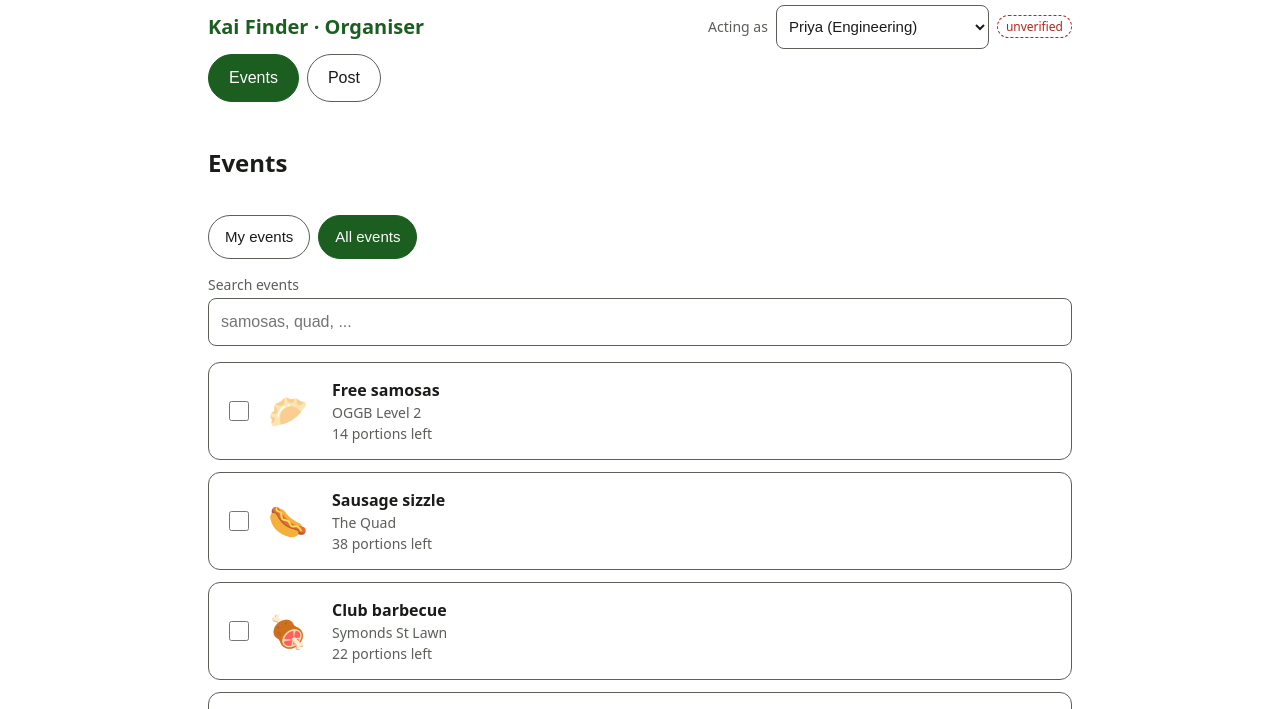
Test case: who posted it › says out loud who it is about to post as
Click the button "Post" at (344, 78), box [307,54,381,102]
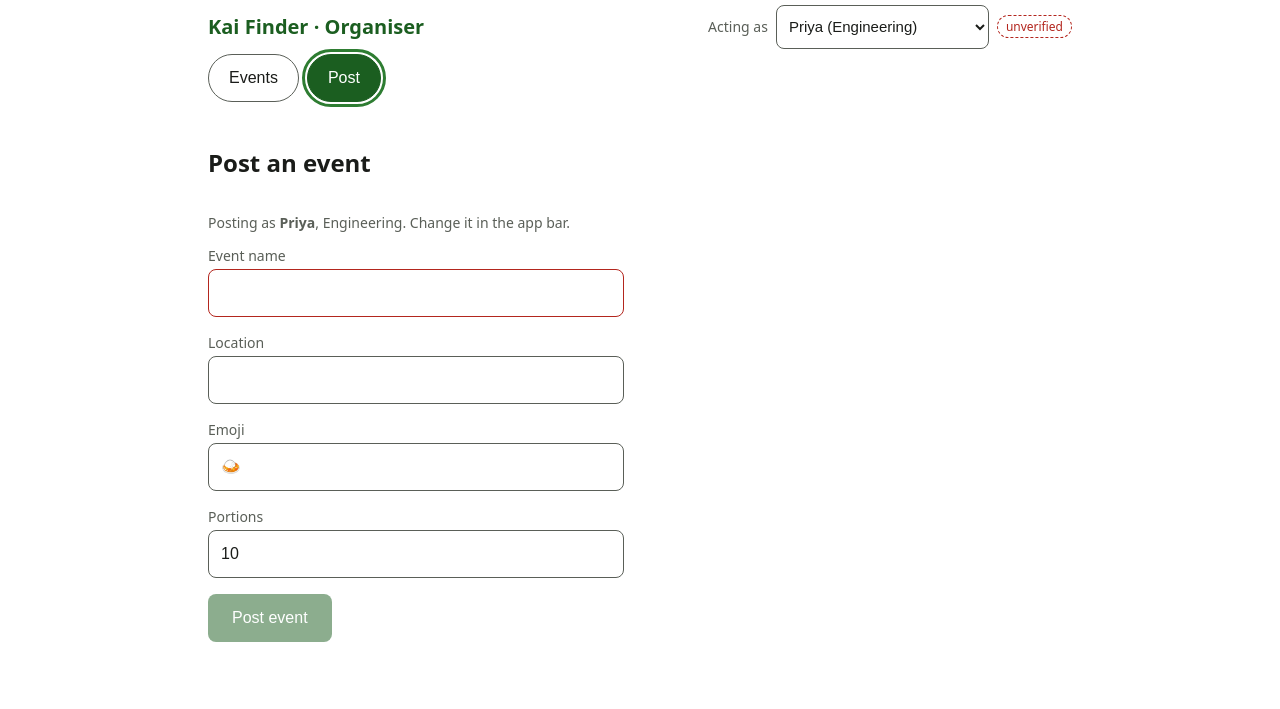
Select "Josh (Business School)" in the dropdown labelled "Acting as" at (882, 27), box [776,5,989,49]
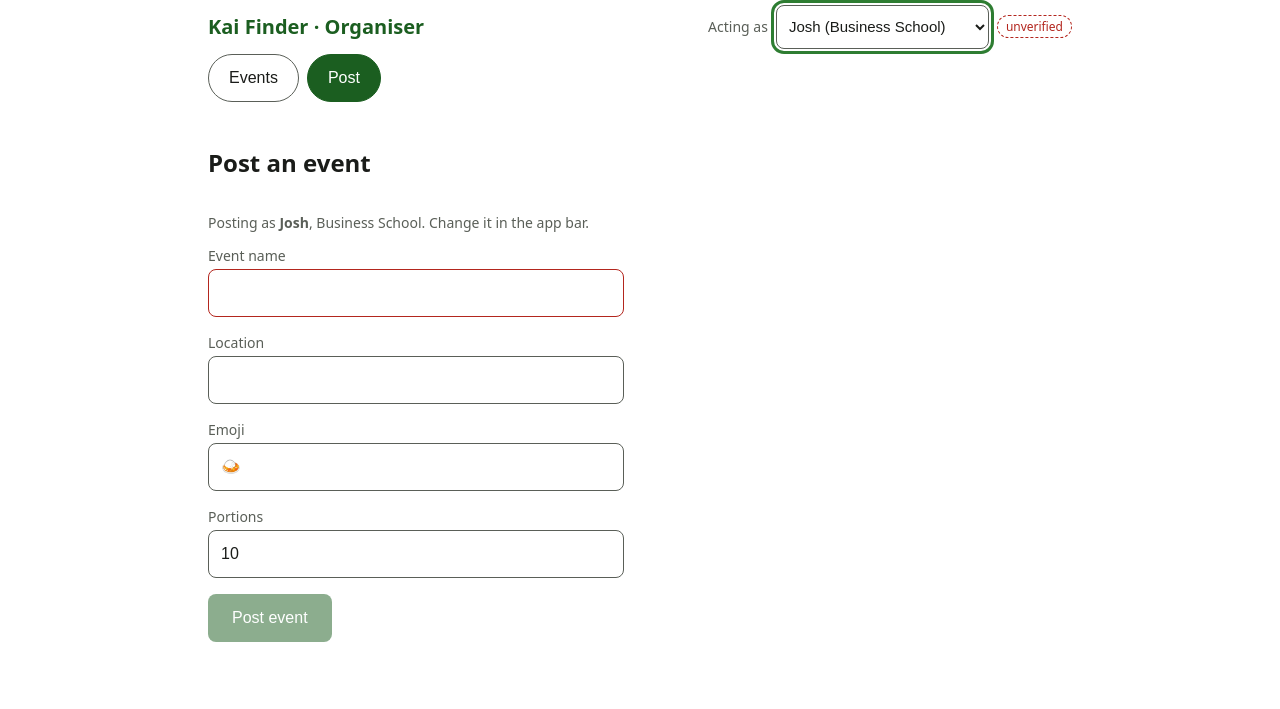
Now the text "Posting as Josh, Business School. Change it in the app bar." is shown, box [208,213,589,232]
